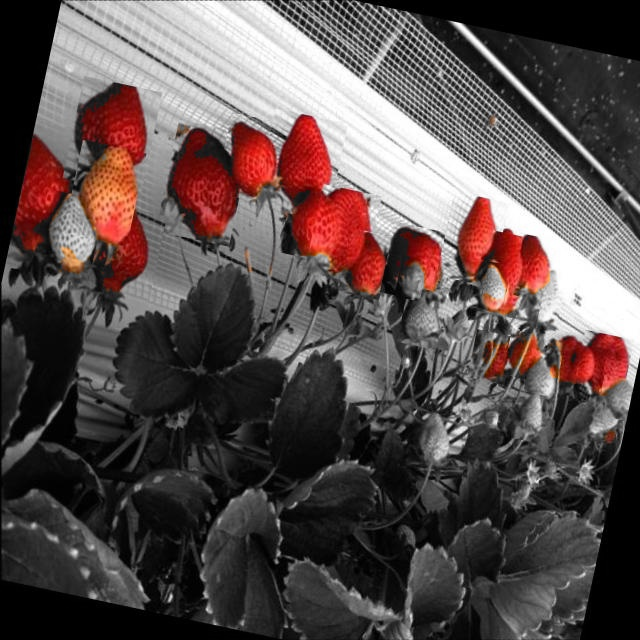ripe: (4, 121, 90, 278), (60, 198, 166, 323), (155, 120, 252, 246), (62, 76, 162, 194), (255, 107, 348, 220), (304, 184, 381, 284), (214, 112, 290, 205), (436, 191, 508, 287), (470, 228, 536, 320), (278, 180, 347, 264), (380, 222, 448, 302), (571, 330, 634, 408), (538, 328, 596, 398), (337, 228, 392, 300), (511, 234, 559, 302), (467, 329, 514, 385), (502, 328, 544, 381)
unripe: (62, 140, 146, 246), (30, 188, 105, 284), (514, 262, 567, 332), (406, 408, 458, 472), (397, 286, 448, 350), (467, 258, 512, 314), (510, 389, 552, 444), (521, 348, 562, 404), (580, 394, 622, 442), (596, 374, 634, 421), (394, 254, 428, 300)
